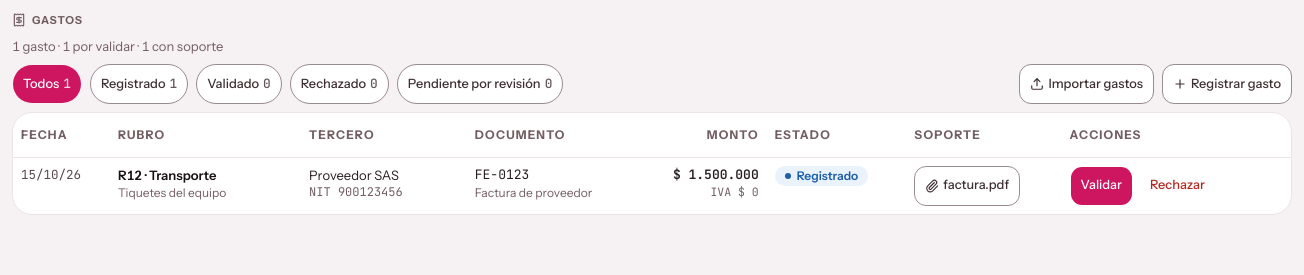
Test: ProjectGastos › validation actions › shows the overspend block message inline when validation answers 409
This screenshot has width=1304, height=275.
Click the button "Validar" at (1101, 186), box [1070,166,1133,206]
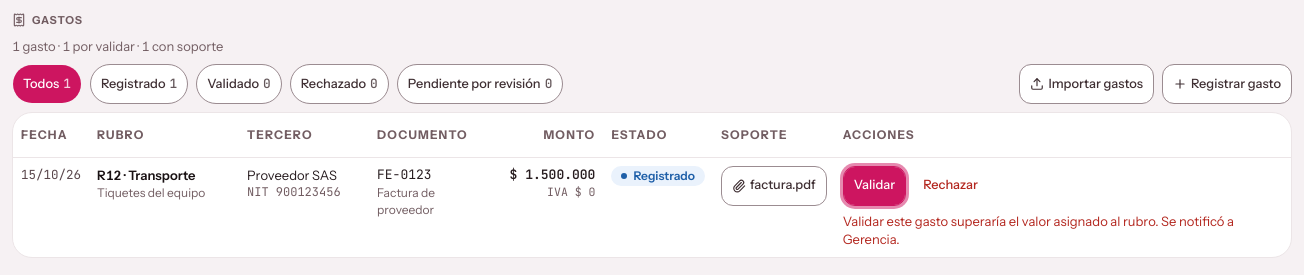
Now the message shows "superaría el valor asignado", box [843,212,1234,247]
